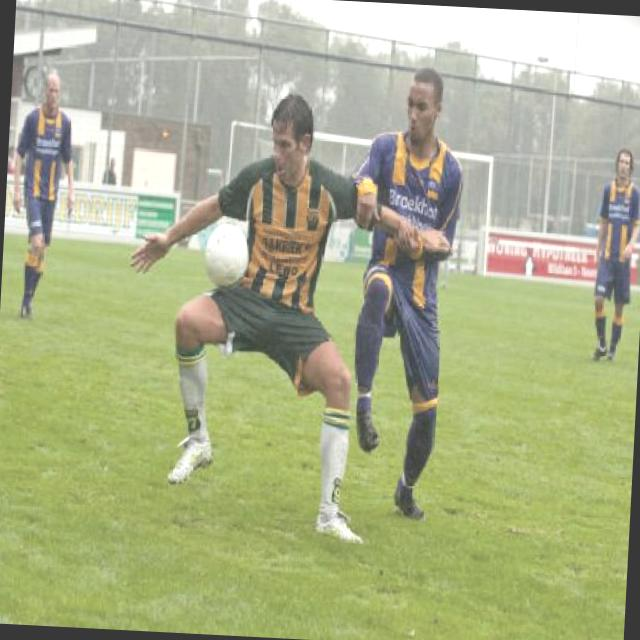Person: (116, 82, 462, 552), (330, 61, 470, 525), (5, 62, 76, 326), (590, 145, 640, 364), (101, 153, 119, 183), (440, 254, 450, 291), (7, 143, 15, 172)
